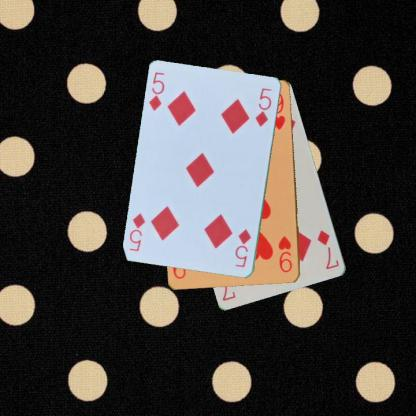5d: (232, 226, 252, 270), (147, 70, 166, 112)
7d: (315, 227, 341, 271)
9h: (275, 233, 294, 274)
